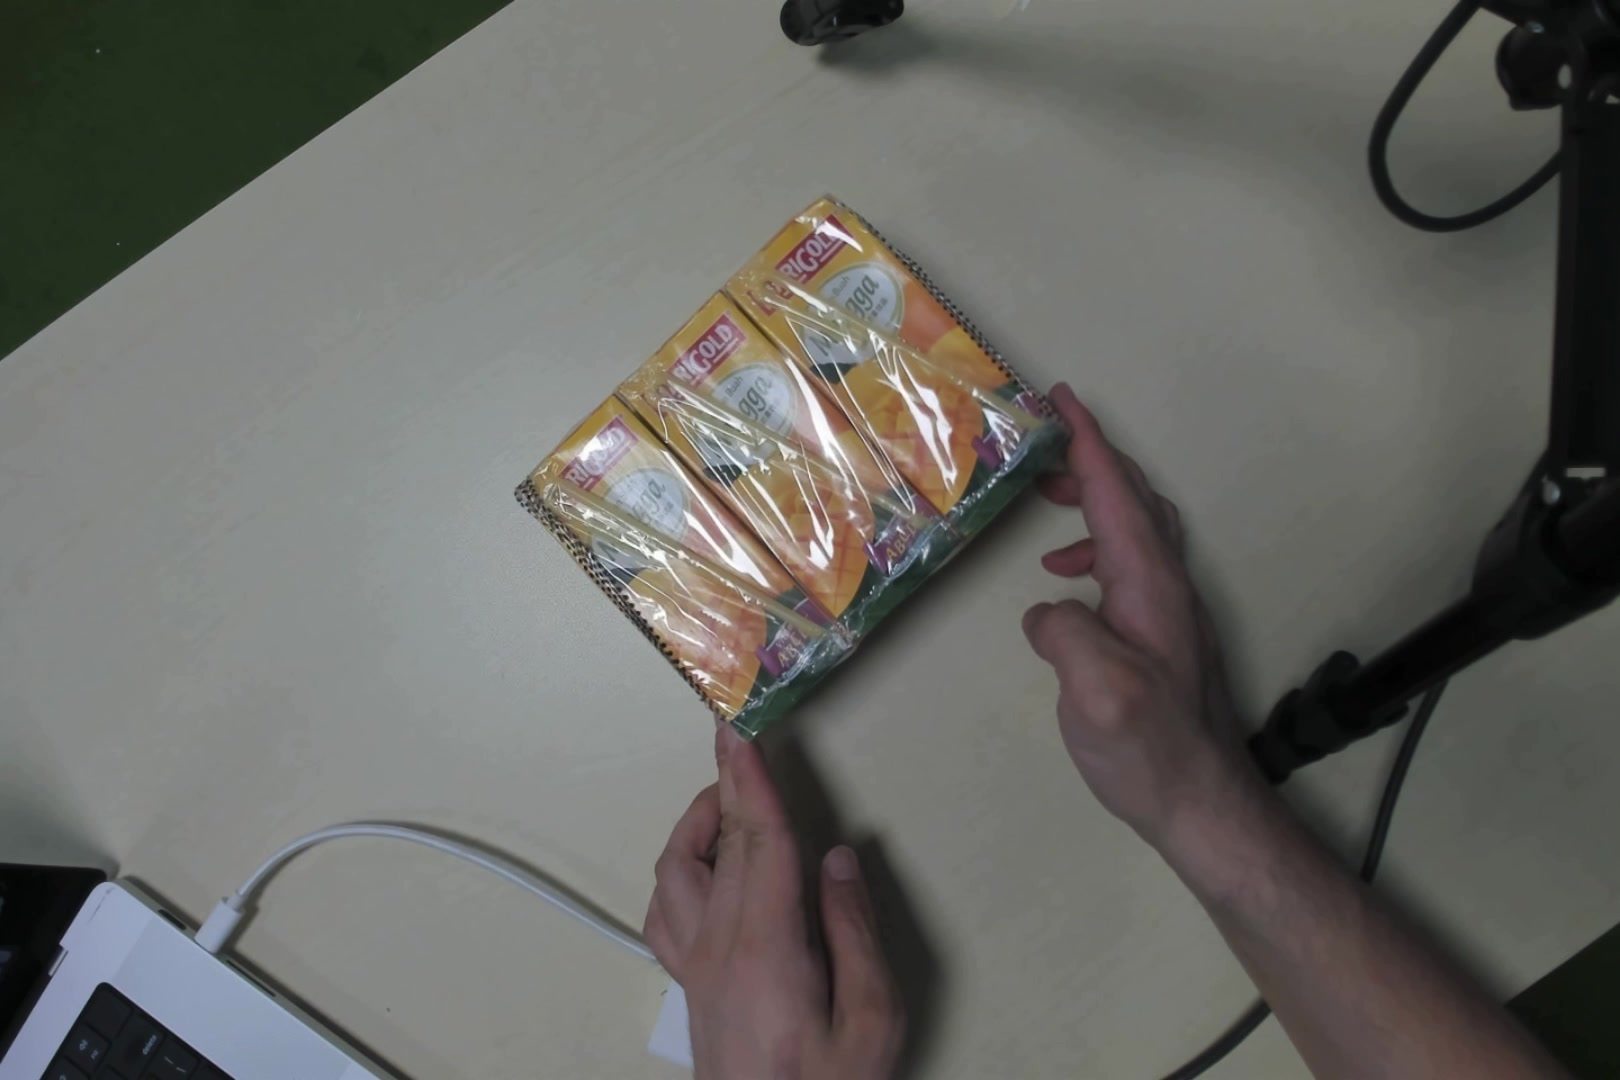FruitJuice_700-799g_Halal_NonHealthy: (559, 187, 1000, 710)
